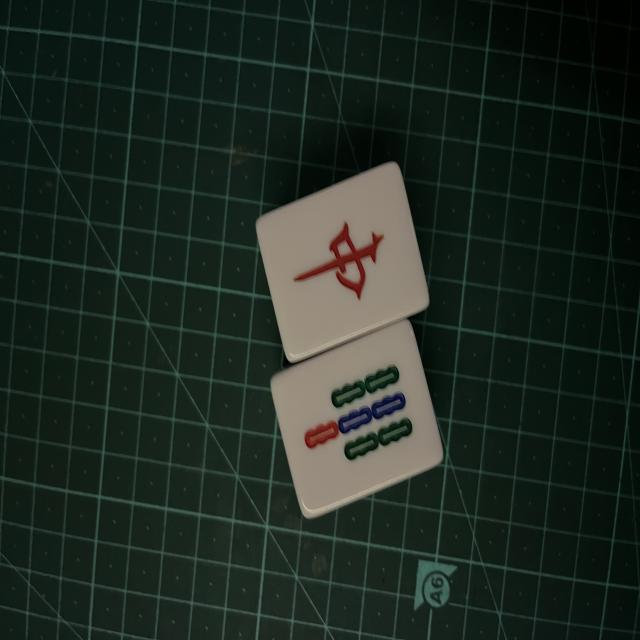7B: (273, 323, 445, 515)
RD: (259, 170, 427, 348)
